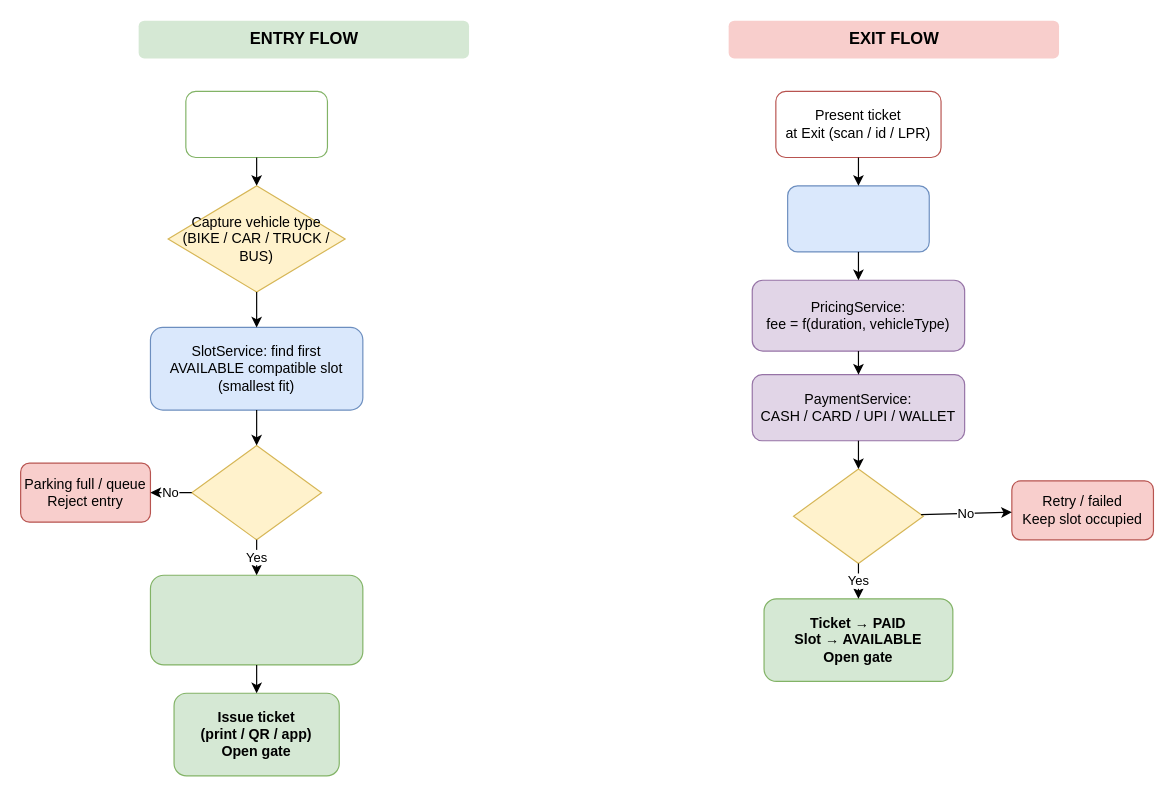
Some shapes in this 1174 by 796 pixel diagram are drawn without their labels. The shapes that lost their labels are listed below. From the top down, each one's centre as x and y in pixels, then its label:
the point at 256,124: Vehicle arrives at Entrance
the point at 857,218: Load Ticket Set exitTime
the point at 256,492: Slot found?
the point at 857,515: Payment OK?
the point at 256,619: Create Ticket Assign vehicle → Slot Slot → OCCUPIED
